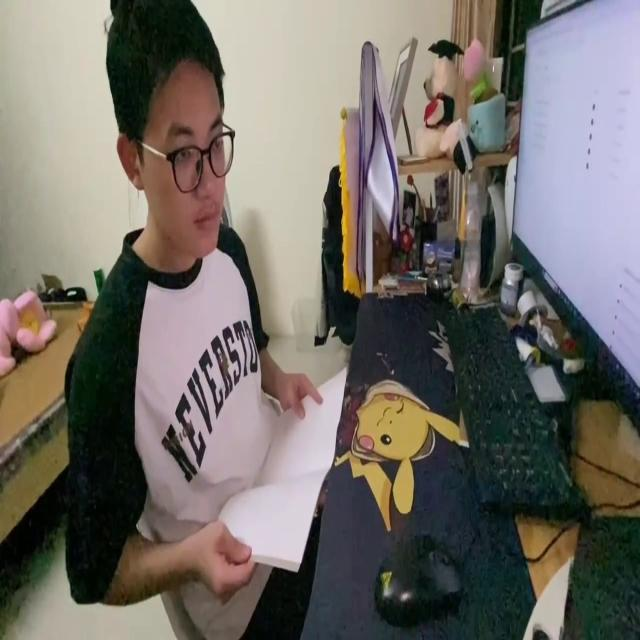book: (208, 359, 351, 578)
laptop: (510, 5, 640, 452)
student: (57, 0, 320, 640)
